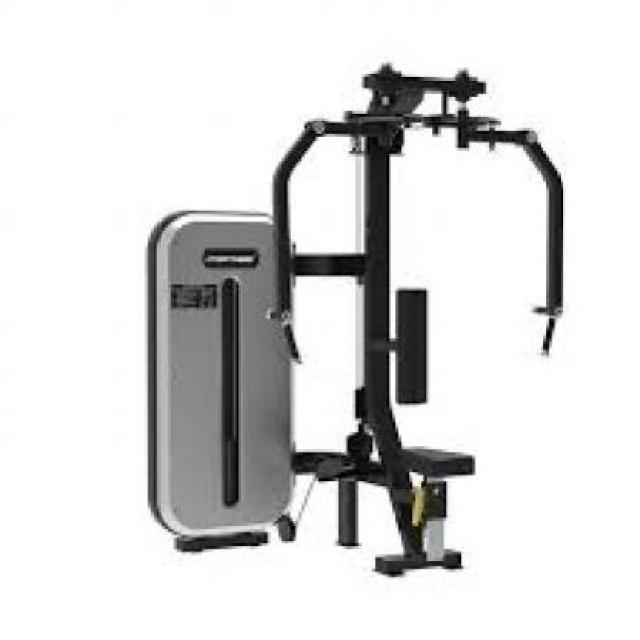chest fly machine: (138, 52, 576, 582)
